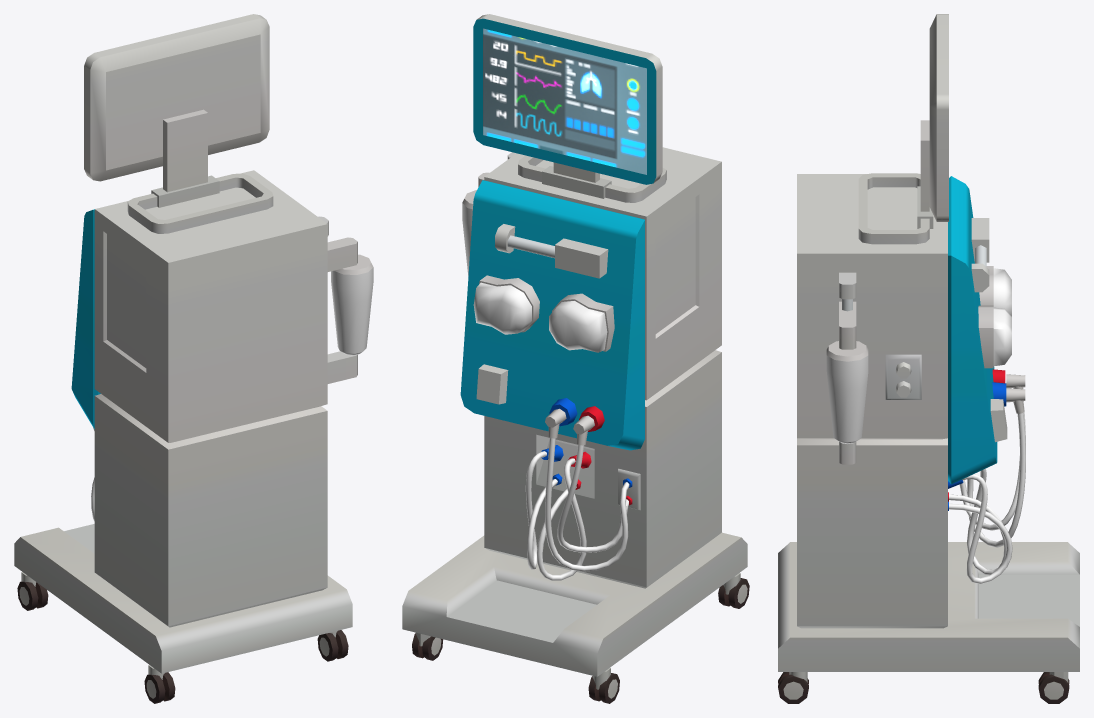
The model's file is Pfb_JLAB_Hemodialysis_Machine.fbx.
3 renders of one model, left to right at view 1: azimuth 30°, elevation 25°; view 2: azimuth 150°, elevation 25°; view 3: azimuth 270°, elevation 25°, orthographic. The views are drawn at different scales.
Parts seen in each view (by area): view 1: Color, Glass; view 2: Color, Monitors, Glass, Metal; view 3: Color, Glass.
Part boxes in pixels (x1,y1,x2,y2): Color: (14, 14, 373, 703); Glass: (91, 267, 373, 521); Color: (402, 14, 749, 703); Monitors: (483, 28, 646, 174); Glass: (462, 203, 629, 580); Metal: (507, 235, 554, 258); Color: (778, 14, 1079, 703); Glass: (826, 268, 1025, 583).
Bounding box in the file's own units: 0.7711 × 1.77 × 0.8.
4 materials, 4 textured.
